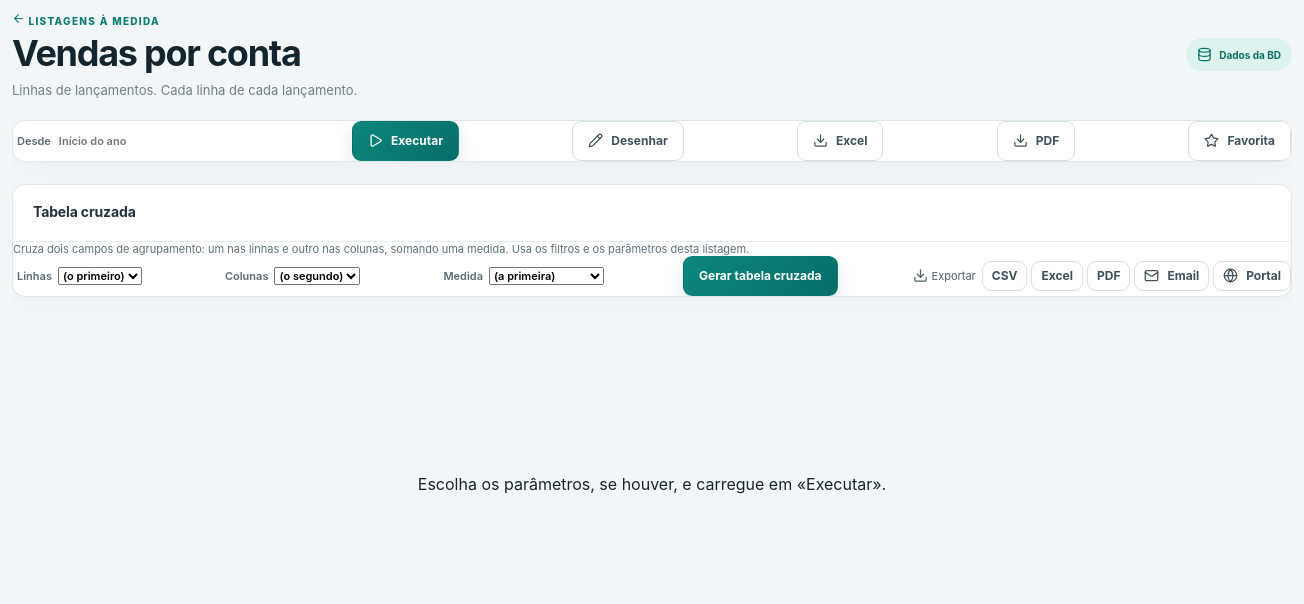
Scenario: listagens à medida › corre com os parâmetros, abre um grupo e liga a linha ao lançamento
Expected: the heading "Vendas por conta" is shown, [12,31,301,75]
Type "2026-02-01" into the field labelled "Desde".
click(146, 141); type("2026-02-01")  # box [57,133,235,149]
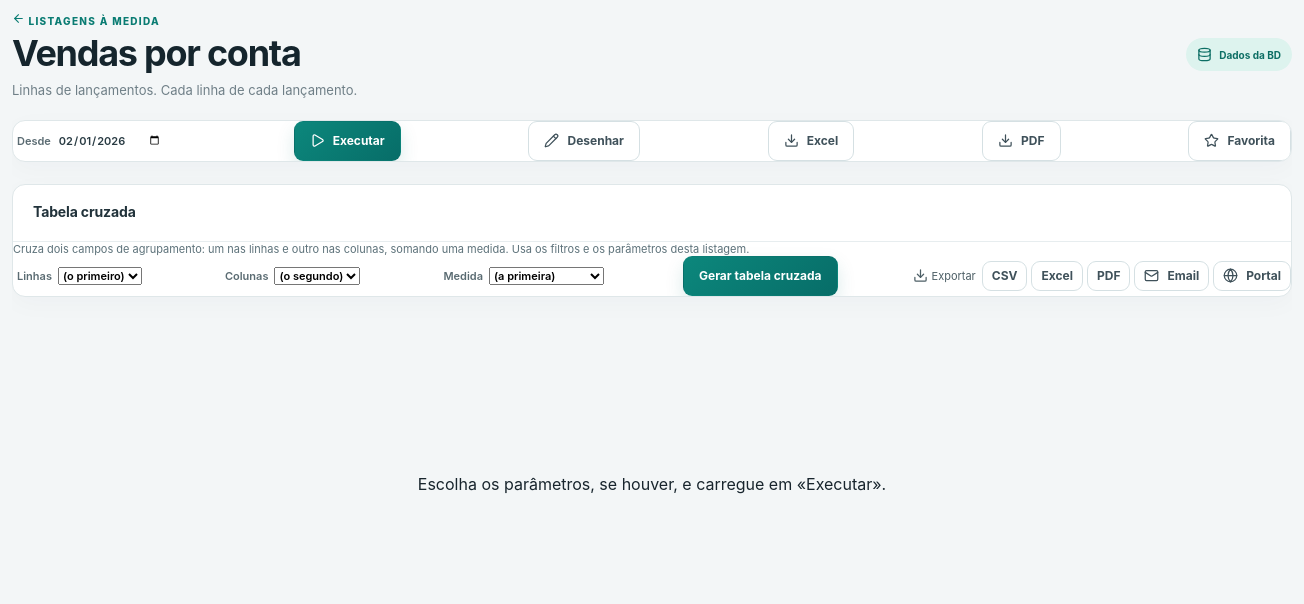
Click the button "Executar".
click(347, 141)  # box [294,121,401,161]
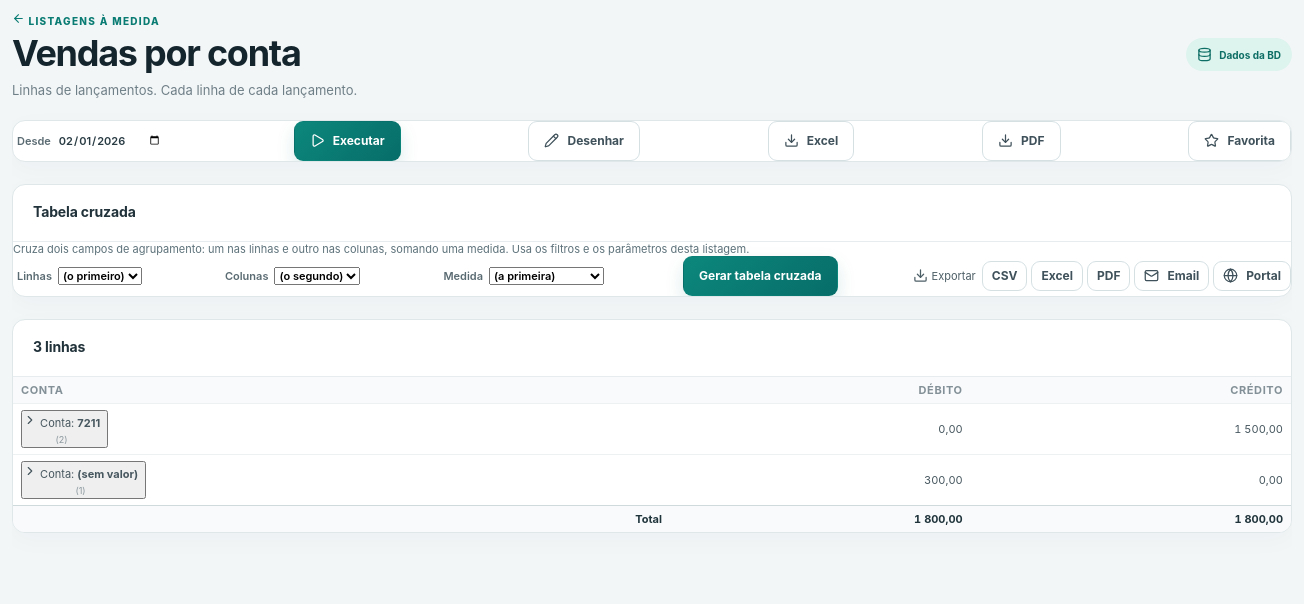
Now the text "(sem valor)" is shown, box [77,467,138,481]
Now the text "1 800,00" is shown 2 times, box [914,512,963,526]; [1234,512,1283,526]
Click the button "Conta: 7211 (2)".
click(65, 429)  # box [21,410,108,448]
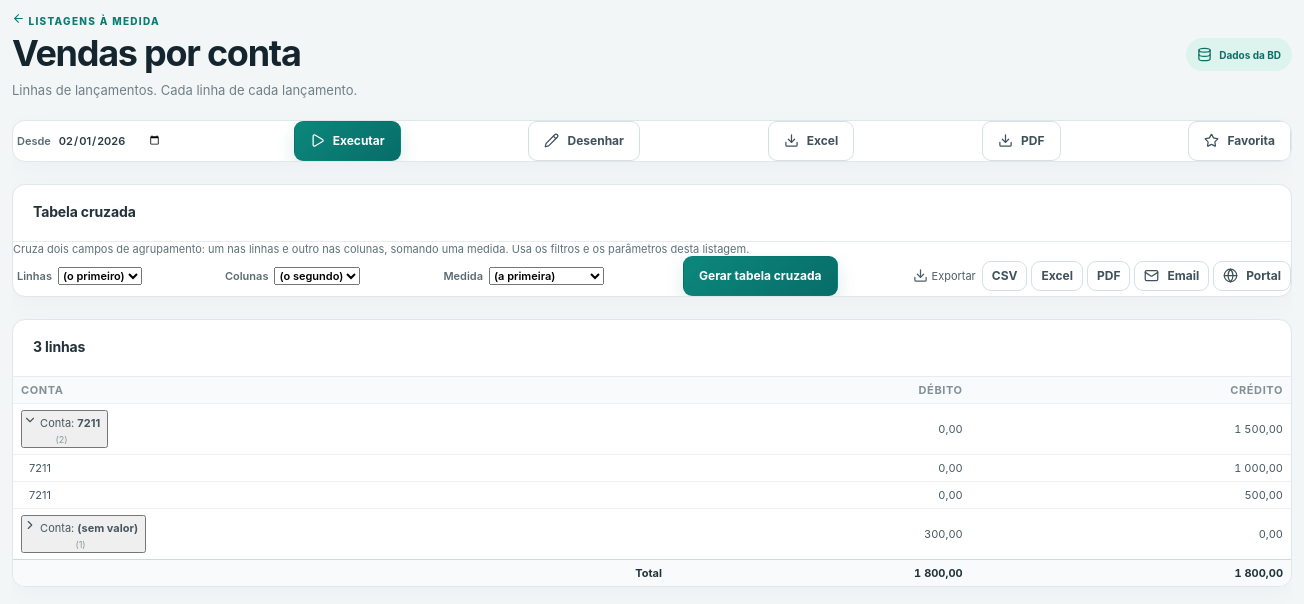
Now the number of links "7211" is 2, box [29,461,51,475]; [29,488,51,502]
